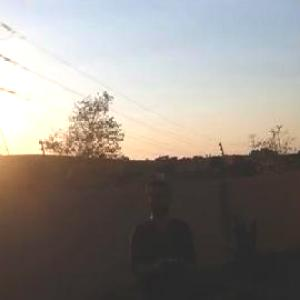follow: (126, 170, 204, 299)
